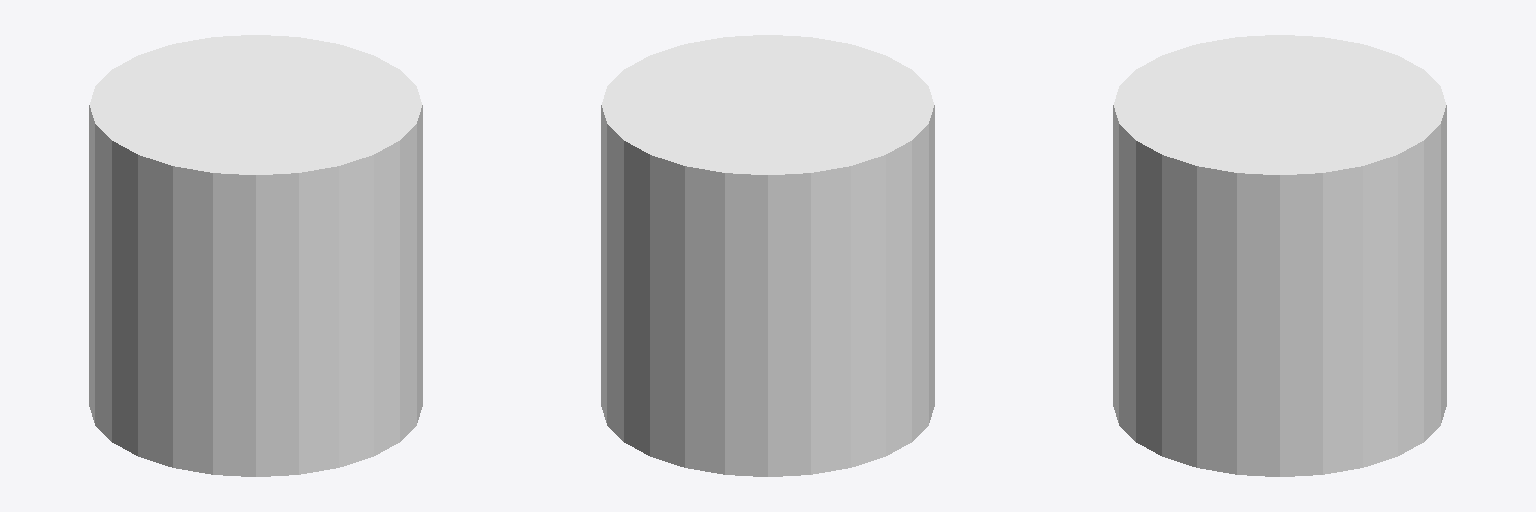
The model's file is cylinder-center.obj.
The picture shows the model from 3 angles: view 1: azimuth 30°, elevation 25°; view 2: azimuth 150°, elevation 25°; view 3: azimuth 270°, elevation 25°; orthographic projection.
Parts seen in each view (by area): view 1: cylinder_full_0; view 2: cylinder_full_0; view 3: cylinder_full_0.
Boxes of the visible parts, x1,y1,x2,y2 form: cylinder_full_0: [89, 35, 422, 476]; cylinder_full_0: [601, 35, 934, 476]; cylinder_full_0: [1113, 35, 1446, 476].
Size of the model in its own units: 1 by 1 by 1.